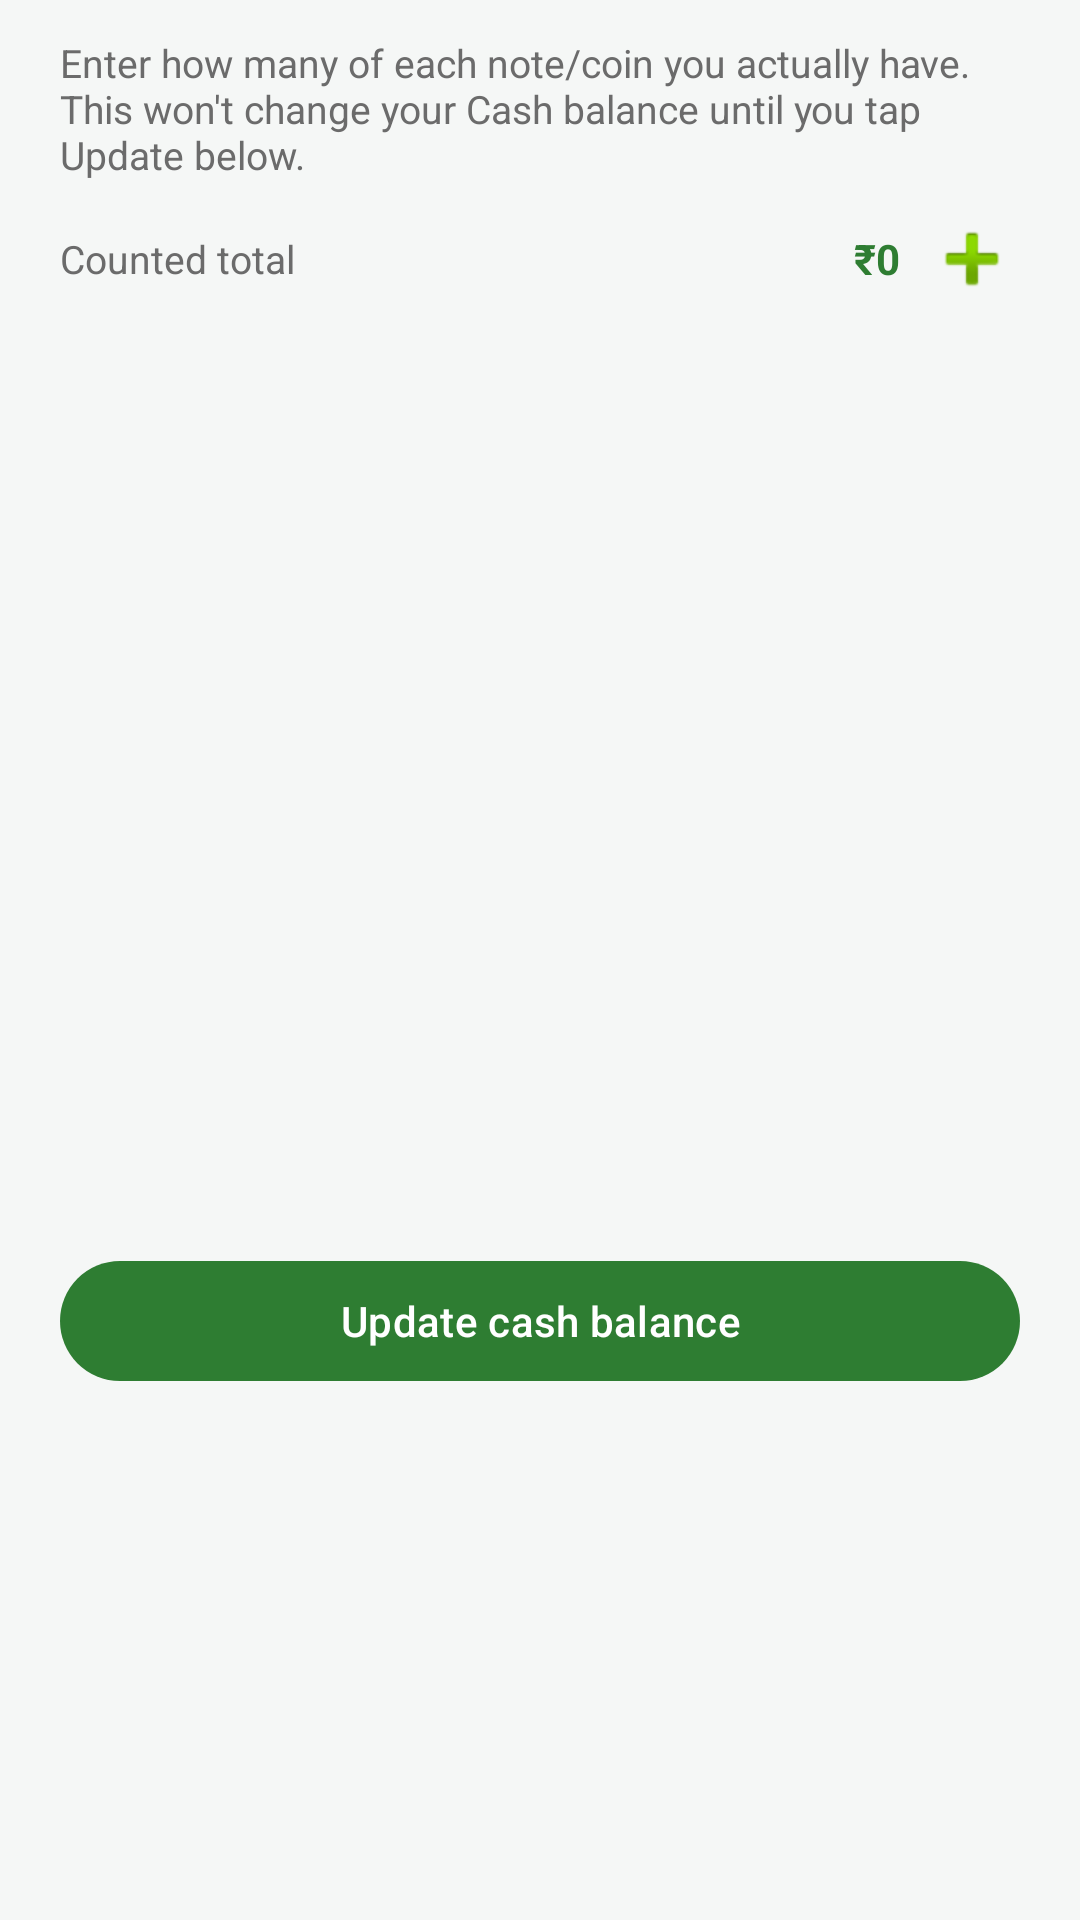

Icons on this 1080 x 1920 Android screen, each with its box as (x1, y1, x2, y2):
Add note or coin: (945, 232, 999, 286)
